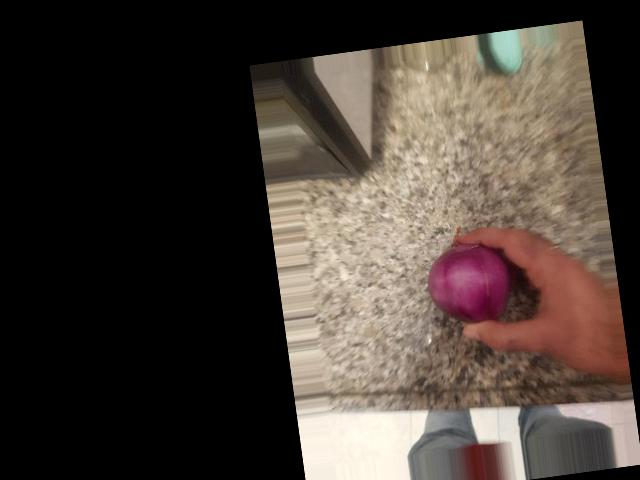onion: (312, 184, 408, 278)
